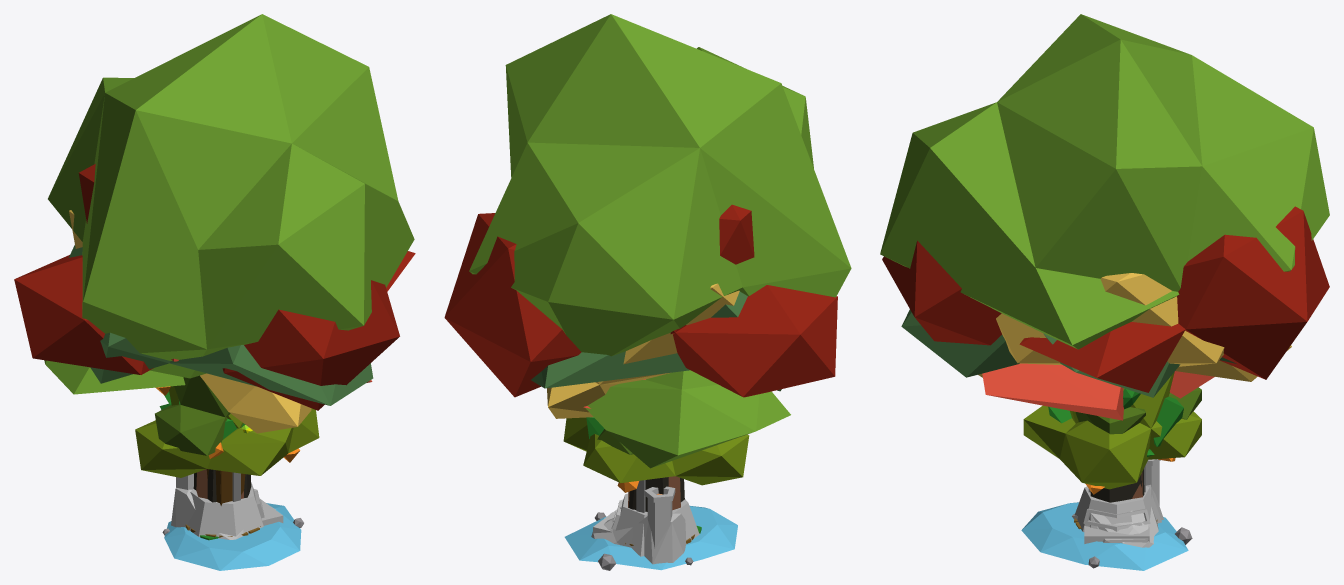
The picture shows the model from 3 angles, left to right: view 1: azimuth 30°, elevation 25°; view 2: azimuth 150°, elevation 25°; view 3: azimuth 270°, elevation 25°; orthographic projection. The views are drawn at different scales.
Visible parts, largest first — view 1: tree-oak, tree-maple-dark, tree-orange-fruit, tree-oak-dark, pond, tree-apple-fruit, tree-maple-yellow, foundry, foundry-base; view 2: tree-oak, tree-maple-dark, tree-orange-fruit, pond, tree-oak-dark, tree-maple-yellow, foundry, foundry-base; view 3: tree-oak, tree-maple-dark, tree-orange-fruit, tree-maple-yellow, tree-maple, pond, tree-oak-dark, foundry, tree-apple-fruit, tree-mango-fruit, foundry-base, boulder-large.
Part boxes in pixels (x1,y1,x2,y2): tree-oak: (44,14,414,504); tree-maple-dark: (14,164,415,502); tree-orange-fruit: (135,386,319,477); tree-oak-dark: (69,245,373,505); pond: (162,503,303,570); tree-apple-fruit: (155,375,230,455); tree-maple-yellow: (69,210,311,498); foundry: (176,473,283,536); foundry-base: (171,487,275,539); tree-oak: (469,14,851,468); tree-maple-dark: (444,204,837,511); tree-orange-fruit: (563,417,749,492); pond: (564,505,737,570); tree-oak-dark: (531,291,781,391); tree-maple-yellow: (547,283,739,506); foundry: (593,486,699,556); foundry-base: (595,507,686,564); tree-oak: (880,14,1329,349); tree-maple-dark: (882,206,1329,502); tree-orange-fruit: (1023,372,1201,494); tree-maple-yellow: (978,273,1291,502); tree-maple: (982,363,1214,495); pond: (1021,502,1192,570); tree-oak-dark: (901,309,1236,397); foundry: (1074,459,1161,543); tree-apple-fruit: (1075,387,1201,434); tree-mango-fruit: (1048,388,1183,456); foundry-base: (1072,484,1163,542); boulder-large: (1090,513,1158,547).
Bounding box in the file's own units: 21.73 × 29.02 × 22.88.
1 material, 1 textured.
